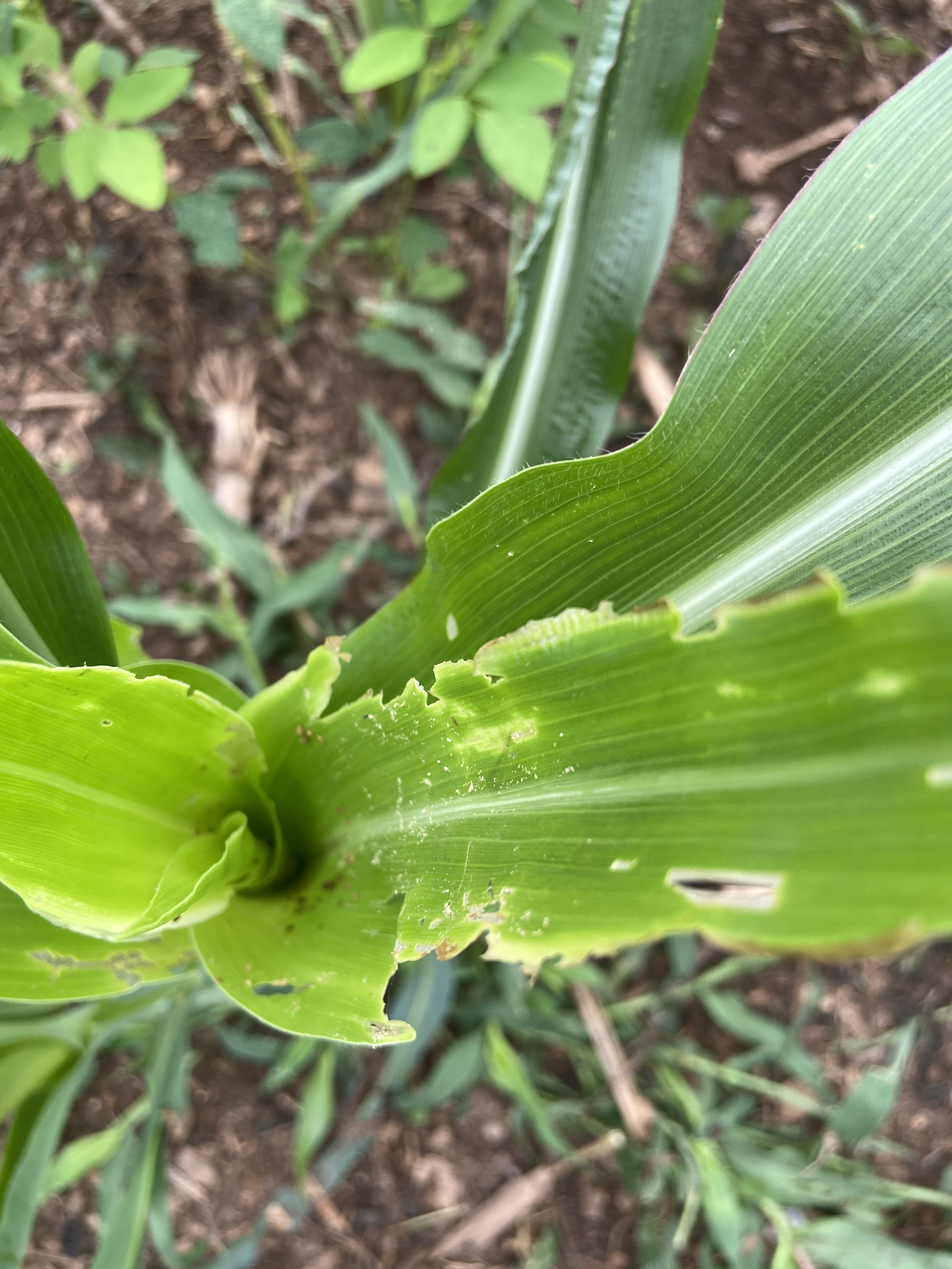early_to_moderate: (313, 711, 581, 937)
severe: (292, 841, 795, 1058), (223, 621, 608, 792), (626, 563, 952, 678)
